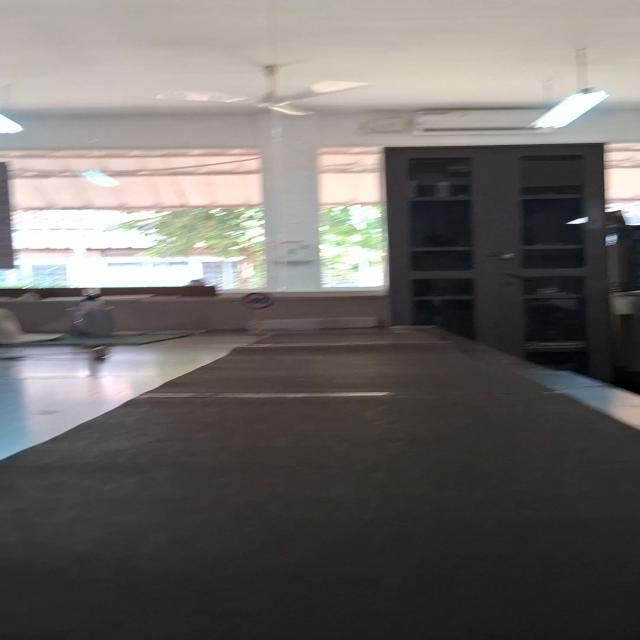Speed40: (240, 290, 276, 310)
